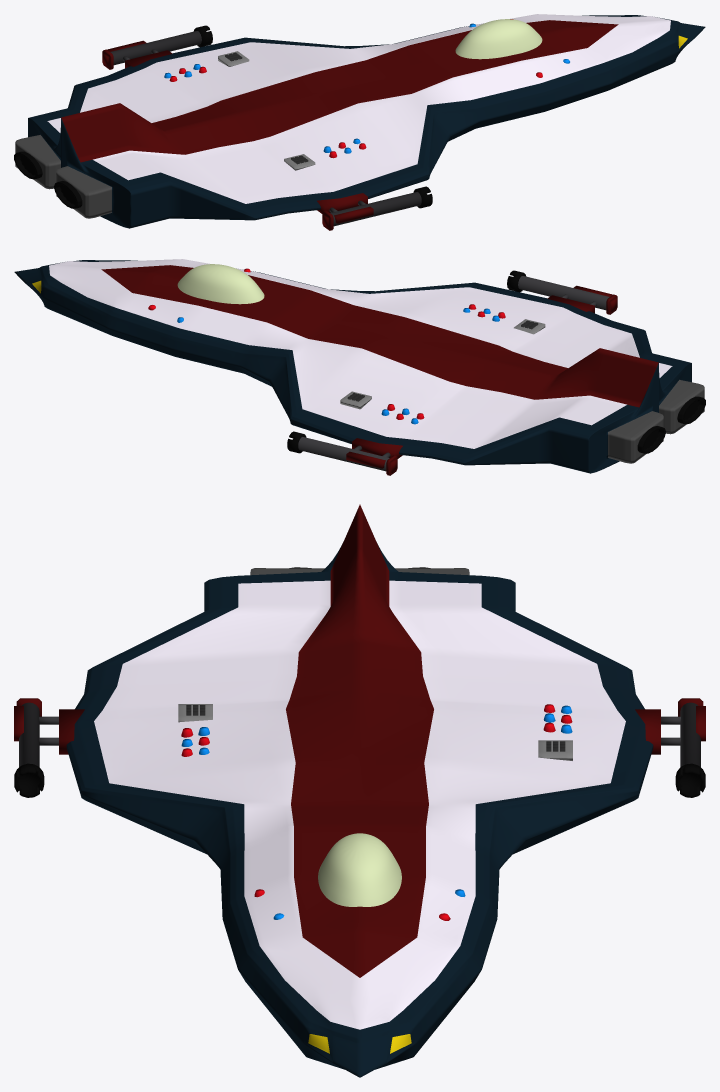
The model's file is PlayerShip.fbx.
The picture shows the model from 3 angles, top to bottom: view 1: azimuth 30°, elevation 25°; view 2: azimuth 150°, elevation 25°; view 3: azimuth 270°, elevation 25°; orthographic projection. The views are drawn at different scales.
Parts seen in each view (by area): view 1: Ship, Guns, Glass; view 2: Ship, Guns, Glass, Control Box; view 3: Ship, Guns, Glass.
Part boxes in pixels (<box>): Ship: <box>14,14,705,228</box>; Guns: <box>102,25,432,230</box>; Glass: <box>455,19,542,59</box>; Ship: <box>14,259,705,473</box>; Guns: <box>287,270,617,475</box>; Glass: <box>177,264,264,304</box>; Control Box: <box>340,391,371,409</box>; Ship: <box>66,504,653,1077</box>; Guns: <box>14,698,705,797</box>; Glass: <box>318,833,401,906</box>.
Bounding box in the file's own units: 3376 × 394 × 2038.
